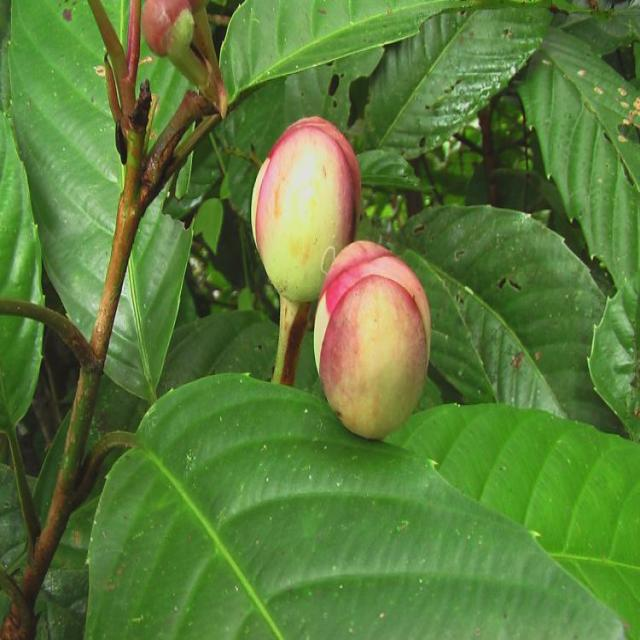Simpoh-Lak: (239, 102, 449, 450)
